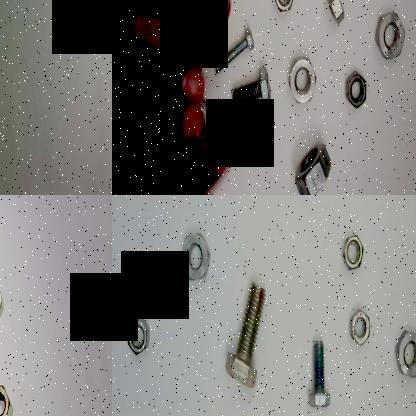Bolts: (220, 280, 268, 390), (298, 332, 334, 416), (209, 26, 256, 80), (226, 62, 272, 115)
NUTS: (293, 135, 336, 195), (282, 51, 319, 112), (178, 224, 212, 285), (372, 2, 405, 62), (121, 310, 149, 364), (342, 64, 370, 116), (391, 324, 416, 379), (338, 229, 366, 273), (347, 304, 371, 352), (322, 0, 346, 29), (269, 0, 299, 19)
